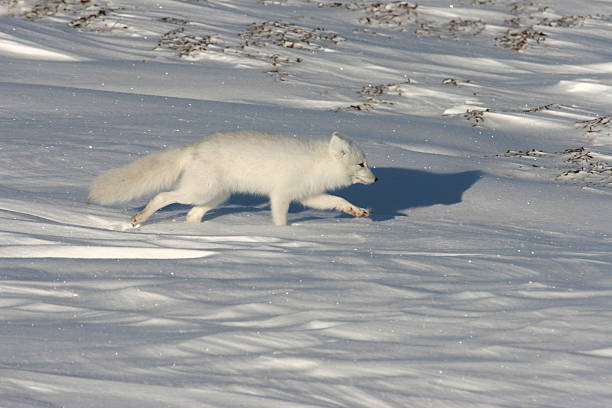arcticfox: (337, 137, 378, 195)
